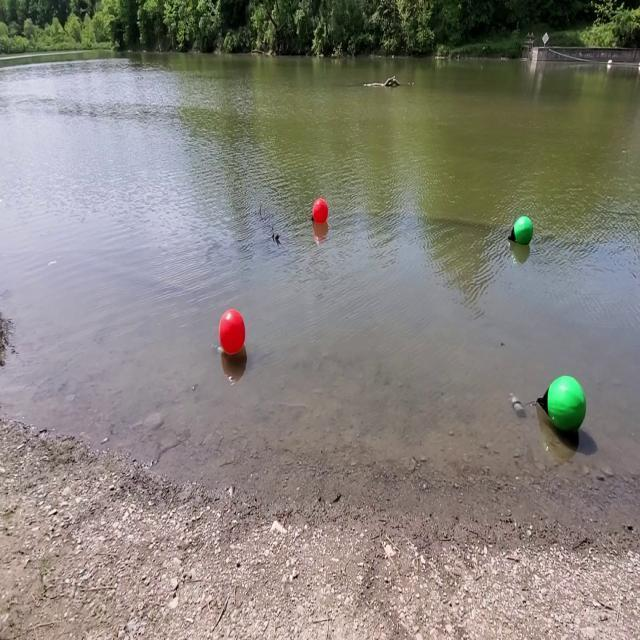buoy: (539, 374, 587, 437), (218, 308, 246, 354), (508, 216, 534, 247), (313, 196, 328, 224)
